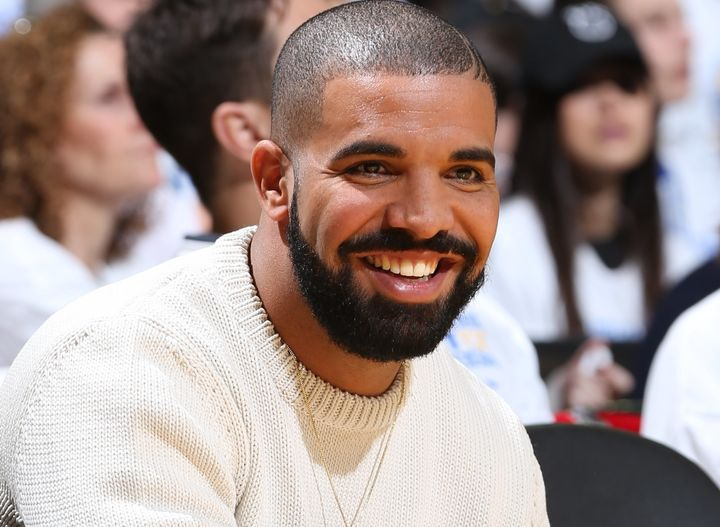bare: (291, 187, 502, 365)
